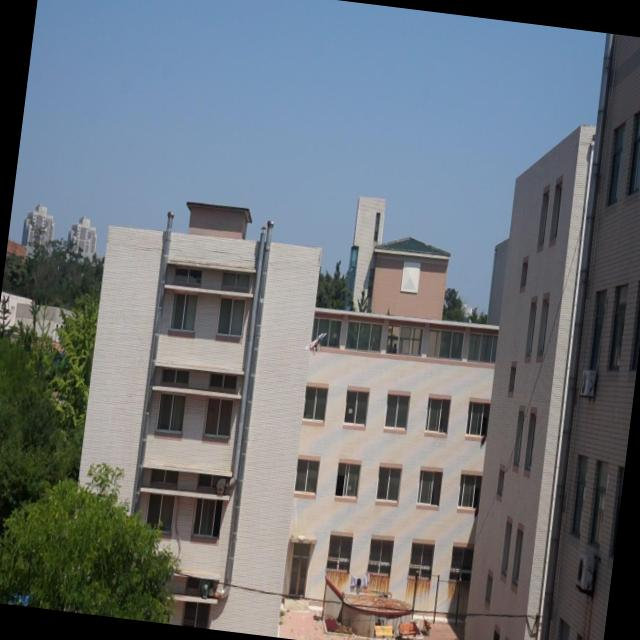drone: (301, 326, 329, 357)
